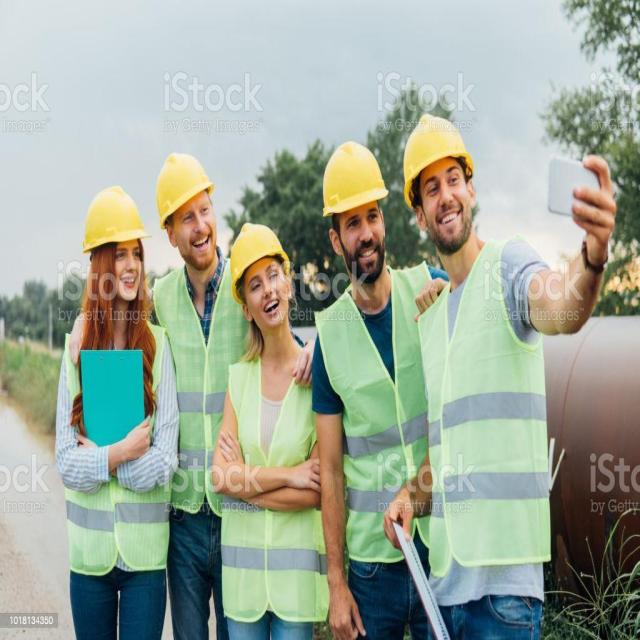helmet: (403, 112, 475, 206), (323, 140, 388, 216), (81, 186, 151, 252), (157, 151, 214, 227), (230, 222, 289, 295)
